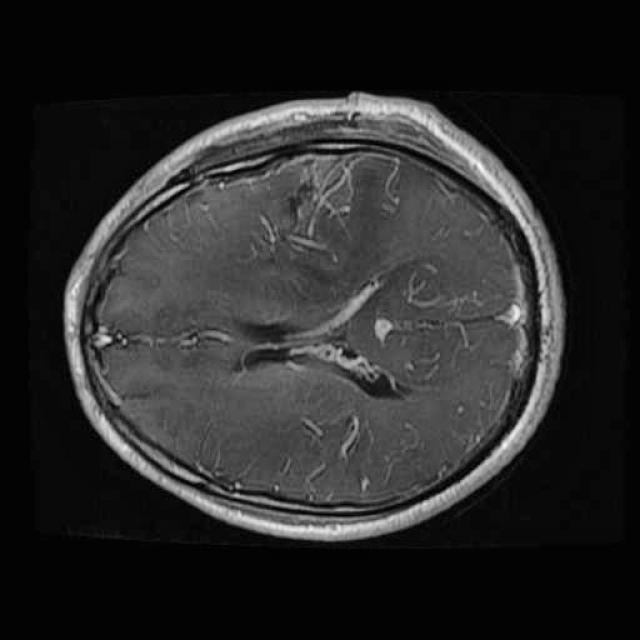Non-Tumor: (251, 134, 369, 268)
